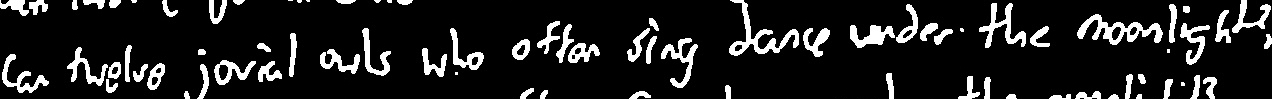Can twelve jovial owls who often sing dance under the moonlight?: (0, 0, 1272, 99)
